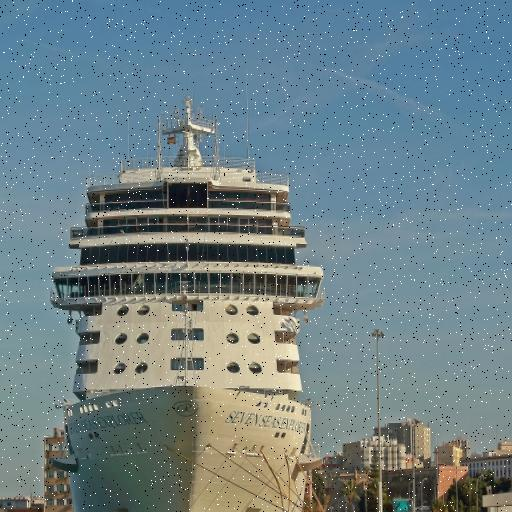cruises: (42, 103, 334, 512)
